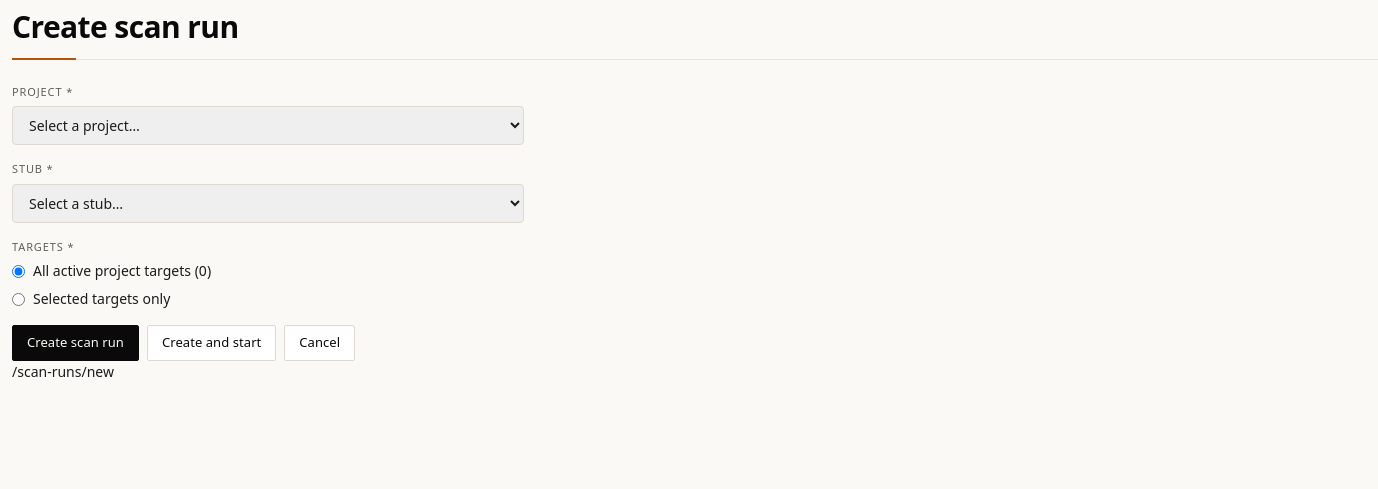
Scenario: CreateScanRun — happy paths › keeps the queued run and shows inline error when the start leg fails
Select "Local Lab" in the dropdown labelled "Project *" at (268, 126), box [12,106,524,145]
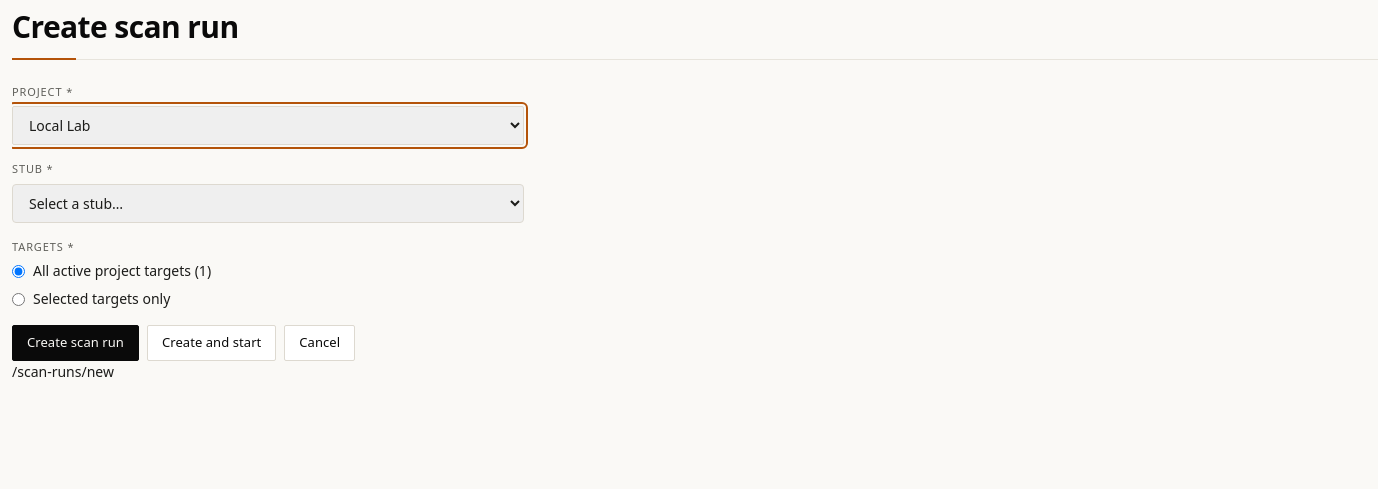
Select "1.1 · Framework detection" in the dropdown labelled "Stub *" at (268, 203), box [12,184,524,222]
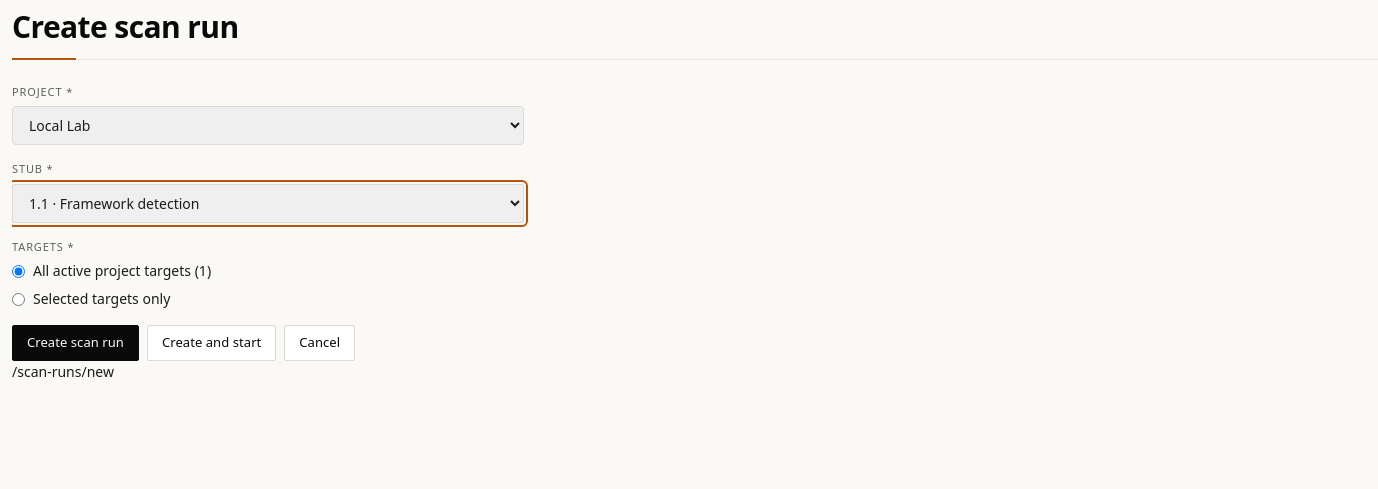
Click the button "Create and start" at (212, 343), box [147,325,276,361]
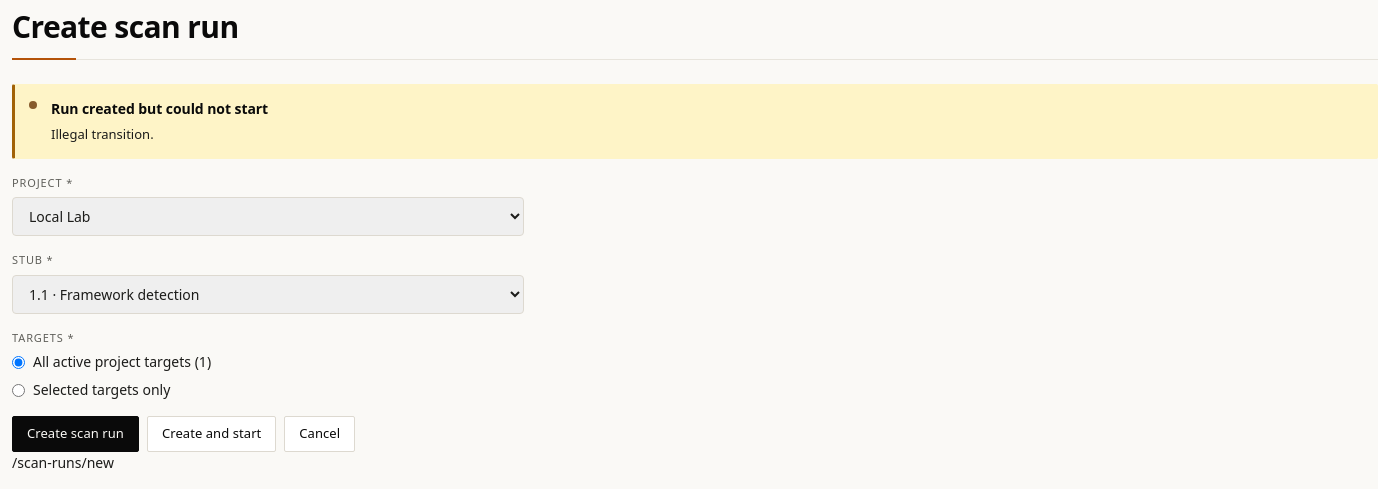
Expected: the text with test id "loc" reads "/scan-runs/new", [12,453,114,472]
Expected: the text "Illegal transition." is shown, [51,125,154,143]
